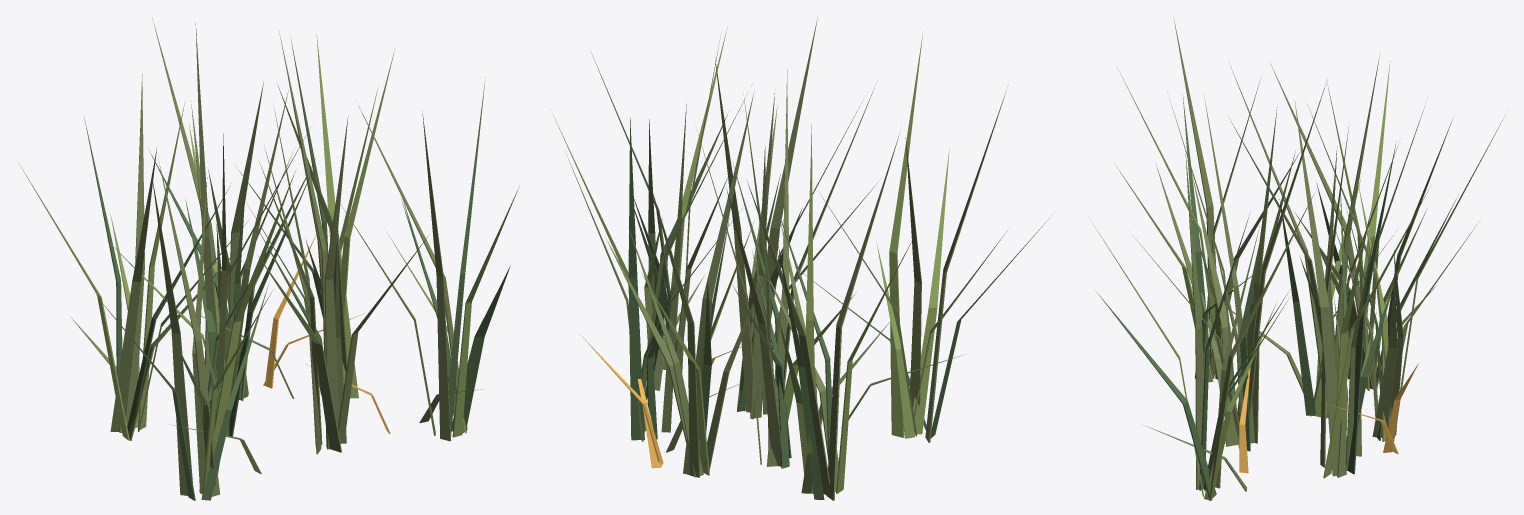
Rendered from prop_wild_grass_patch.glb.
3 renders of one model, left to right at view 1: azimuth 30°, elevation 25°; view 2: azimuth 150°, elevation 25°; view 3: azimuth 270°, elevation 25°, orthographic. The views are drawn at different scales.
Parts seen in each view (by area): view 1: prop_wild_grass_patch__Wild_grass_cluster; view 2: prop_wild_grass_patch__Wild_grass_cluster; view 3: prop_wild_grass_patch__Wild_grass_cluster.
Part boxes in pixels (x1,y1,x2,y2): prop_wild_grass_patch__Wild_grass_cluster: (19,17,519,500); prop_wild_grass_patch__Wild_grass_cluster: (550,18,1052,500); prop_wild_grass_patch__Wild_grass_cluster: (1092,18,1505,500).
Size of the model in its own units: 1.99 by 1.72 by 1.79.
